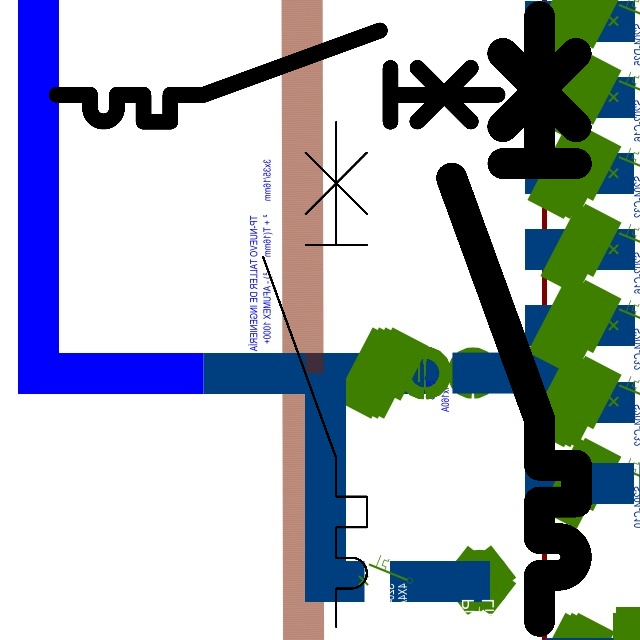interruptor_termomagnetico: (436, 1, 592, 637), (250, 109, 380, 640), (45, 19, 509, 133)
